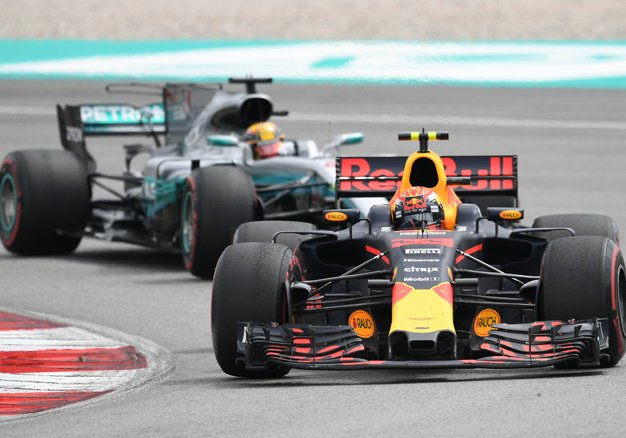f1_car: (203, 123, 626, 387), (1, 70, 365, 281)
